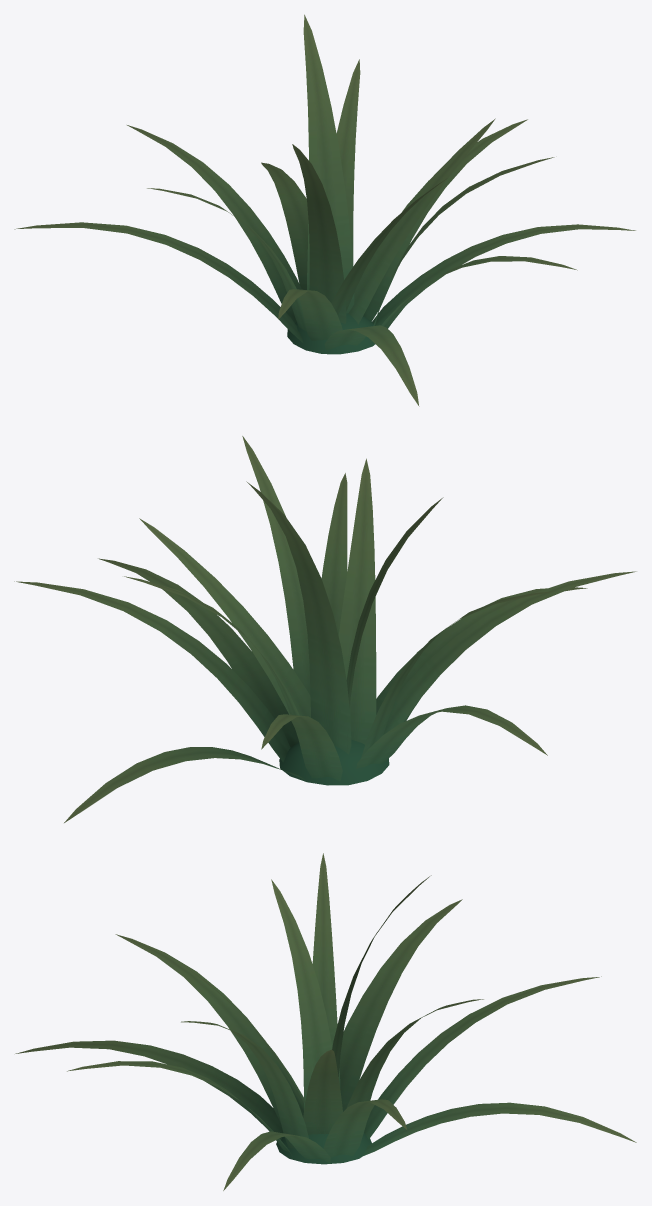
File: GRASS_modified_normals.fbx
The picture shows the model from 3 angles, top to bottom: view 1: azimuth 30°, elevation 25°; view 2: azimuth 150°, elevation 25°; view 3: azimuth 270°, elevation 25°; orthographic projection. The views are drawn at different scales.
Parts seen in each view (by area): view 1: GrassModifierdNormals; view 2: GrassModifierdNormals; view 3: GrassModifierdNormals.
Part boxes in pixels (x1=…): GrassModifierdNormals: x1=14, y1=14, x2=635, y2=406; GrassModifierdNormals: x1=14, y1=436, x2=636, y2=822; GrassModifierdNormals: x1=15, y1=853, x2=636, y2=1190.
Bounding box in the file's own units: 88.77 × 46.15 × 92.75.
